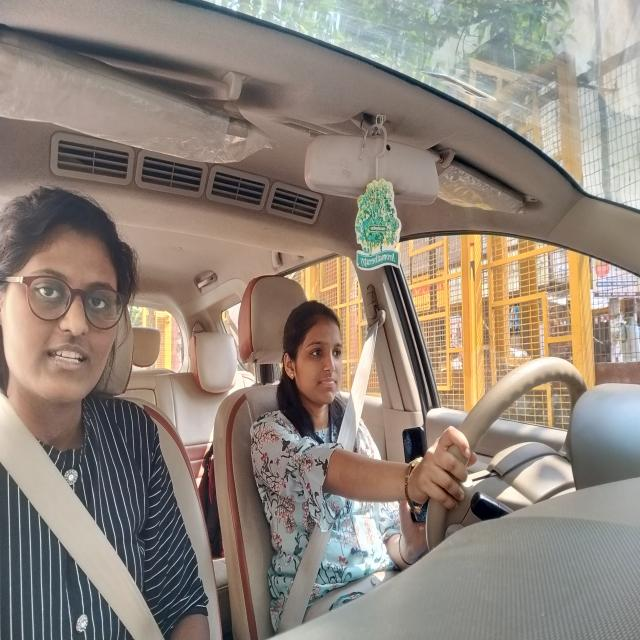mobile: (396, 429, 435, 531)
person: (14, 200, 122, 410), (286, 305, 350, 432)
